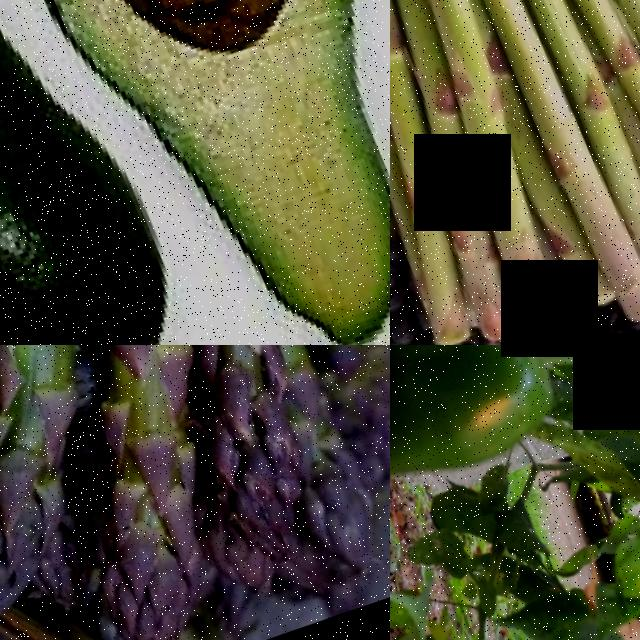asparagus: (411, 0, 640, 339), (390, 0, 609, 345), (390, 0, 556, 342), (457, 0, 640, 290), (53, 345, 231, 635), (390, 0, 501, 345), (512, 0, 640, 277), (169, 345, 307, 545), (569, 0, 640, 266)
avocado: (0, 0, 390, 345), (0, 0, 246, 345)
bell pepper: (390, 345, 573, 504)
